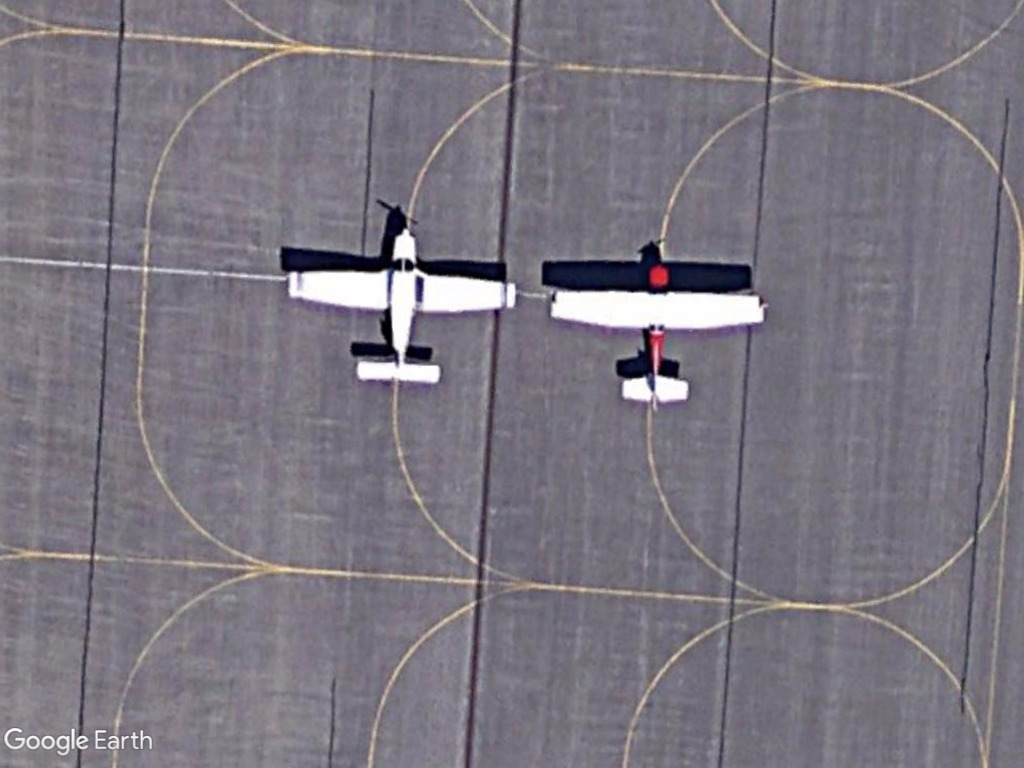trainer: (281, 228, 520, 386), (543, 265, 770, 411)
